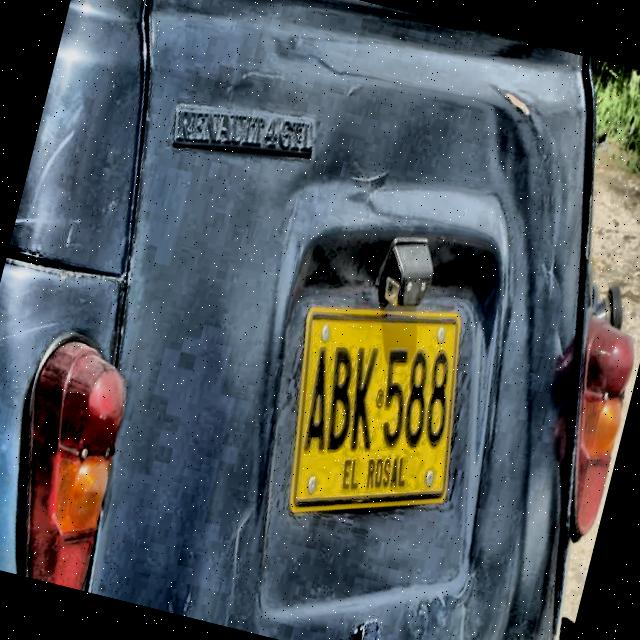plate: (288, 308, 462, 514)
